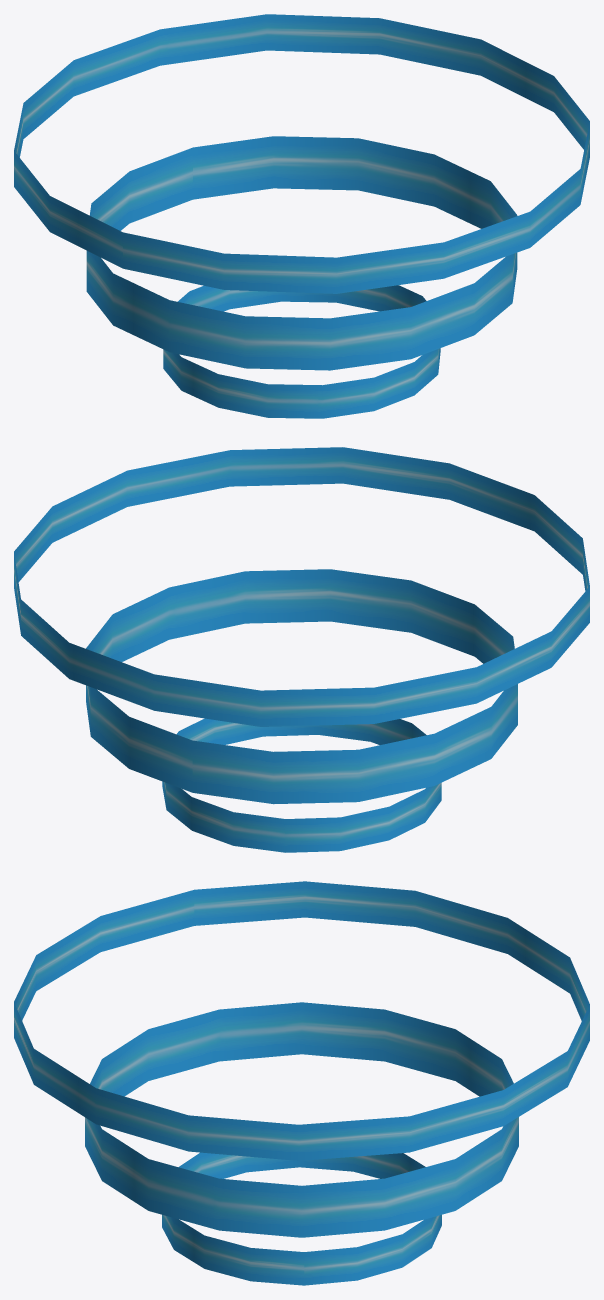
Rendered from xuanfeng.FBX.
The picture shows the model from 3 angles, top to bottom: view 1: azimuth 30°, elevation 25°; view 2: azimuth 150°, elevation 25°; view 3: azimuth 270°, elevation 25°; orthographic projection.
Parts seen in each view (by area): view 1: Cylinder01; view 2: Cylinder01; view 3: Cylinder01.
Part boxes in pixels (x1,y1,x2,y2): Cylinder01: (14,14,589,418); Cylinder01: (14,447,589,852); Cylinder01: (14,881,589,1285).
Bounding box in the file's own units: 96.81 × 41.44 × 96.81.
